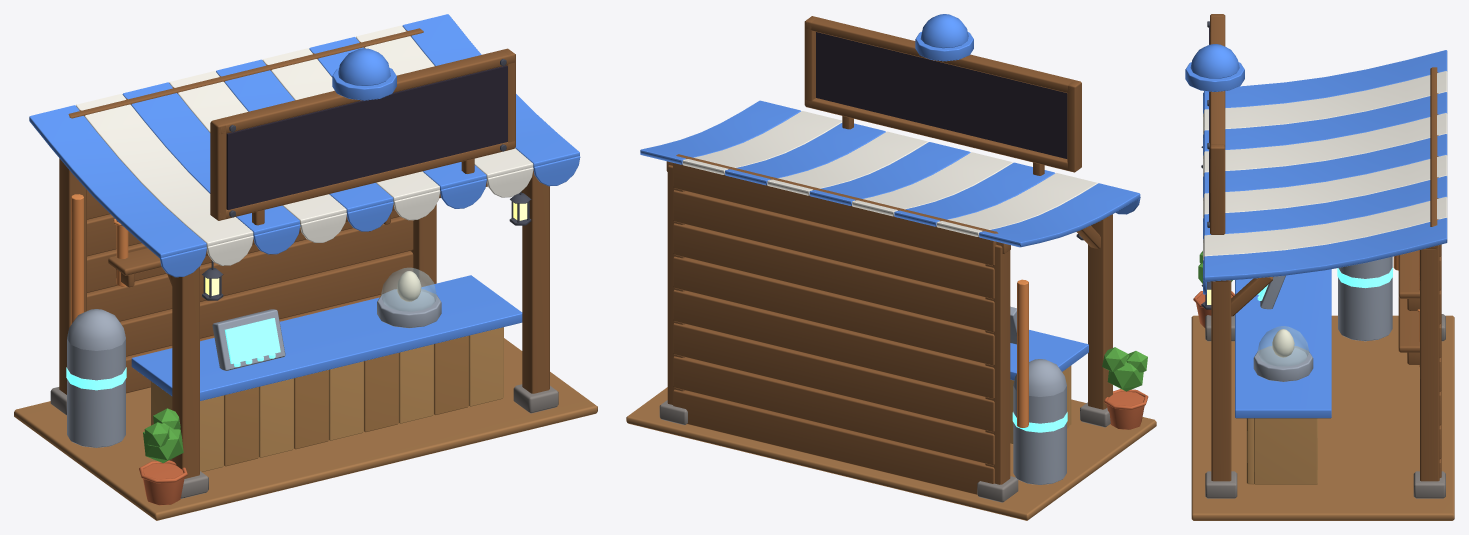
The model's file is stall-incubators.glb.
The picture shows the model from 3 angles, left to right: view 1: azimuth 30°, elevation 25°; view 2: azimuth 150°, elevation 25°; view 3: azimuth 270°, elevation 25°; orthographic projection. The views are drawn at different scales.
Visible parts, largest first — view 1: StallIncubators_Frame, StallIncubators_Accent, StallIncubators_SignBoard, StallIncubators_Floor, StallIncubators_Cloth, StallIncubators_Counter, StallIncubators_Machine, StallIncubators_CounterAlt, StallIncubators_Screen, StallIncubators_Icon, StallIncubators_Pipes, StallIncubators_Glass (+4 smaller); view 2: StallIncubators_Frame, StallIncubators_Accent, StallIncubators_SignBoard, StallIncubators_Cloth, StallIncubators_Floor, StallIncubators_Machine, StallIncubators_Icon, StallIncubators_Stone, StallIncubators_Pipes, StallIncubators_Plant, StallIncubators_Pot; view 3: StallIncubators_Accent, StallIncubators_Floor, StallIncubators_Cloth, StallIncubators_Frame, StallIncubators_Machine, StallIncubators_Counter, StallIncubators_Icon, StallIncubators_Stone, StallIncubators_Glass, StallIncubators_Screen, StallIncubators_Egg, StallIncubators_Pot.
Boxes of the visible parts, x1,y1,x2,y2 form: StallIncubators_Frame: (59,28,549,478); StallIncubators_Accent: (29,14,580,400); StallIncubators_SignBoard: (226,65,507,209); StallIncubators_Floor: (14,338,597,520); StallIncubators_Cloth: (76,25,533,265); StallIncubators_Counter: (151,327,503,472); StallIncubators_Machine: (67,289,441,447); StallIncubators_CounterAlt: (224,335,468,466); StallIncubators_Screen: (66,318,280,390); StallIncubators_Icon: (332,48,396,100); StallIncubators_Pipes: (71,194,128,324); StallIncubators_Glass: (381,267,436,311); StallIncubators_Frame: (666,16,1112,494); StallIncubators_Accent: (640,100,1140,380); StallIncubators_SignBoard: (816,32,1067,158); StallIncubators_Cloth: (682,111,1097,236); StallIncubators_Floor: (626,387,1156,520); StallIncubators_Machine: (1010,306,1066,484); StallIncubators_Icon: (915,14,973,61); StallIncubators_Stone: (659,400,1110,502); StallIncubators_Pipes: (1017,279,1028,427); StallIncubators_Plant: (1102,347,1147,391); StallIncubators_Pot: (1104,389,1148,429); StallIncubators_Accent: (1203,50,1447,418); StallIncubators_Floor: (1191,315,1454,520); StallIncubators_Cloth: (1203,71,1447,260); StallIncubators_Frame: (1210,14,1441,481); StallIncubators_Machine: (1253,256,1392,381); StallIncubators_Counter: (1246,418,1317,484); StallIncubators_Icon: (1185,44,1244,91); StallIncubators_Stone: (1205,314,1445,498); StallIncubators_Glass: (1257,326,1309,366); StallIncubators_Screen: (1257,267,1392,300); StallIncubators_Egg: (1272,329,1294,357); StallIncubators_Pot: (1193,291,1234,327).
Size of the model in its own units: 19.03 by 16.71 by 10.85.
